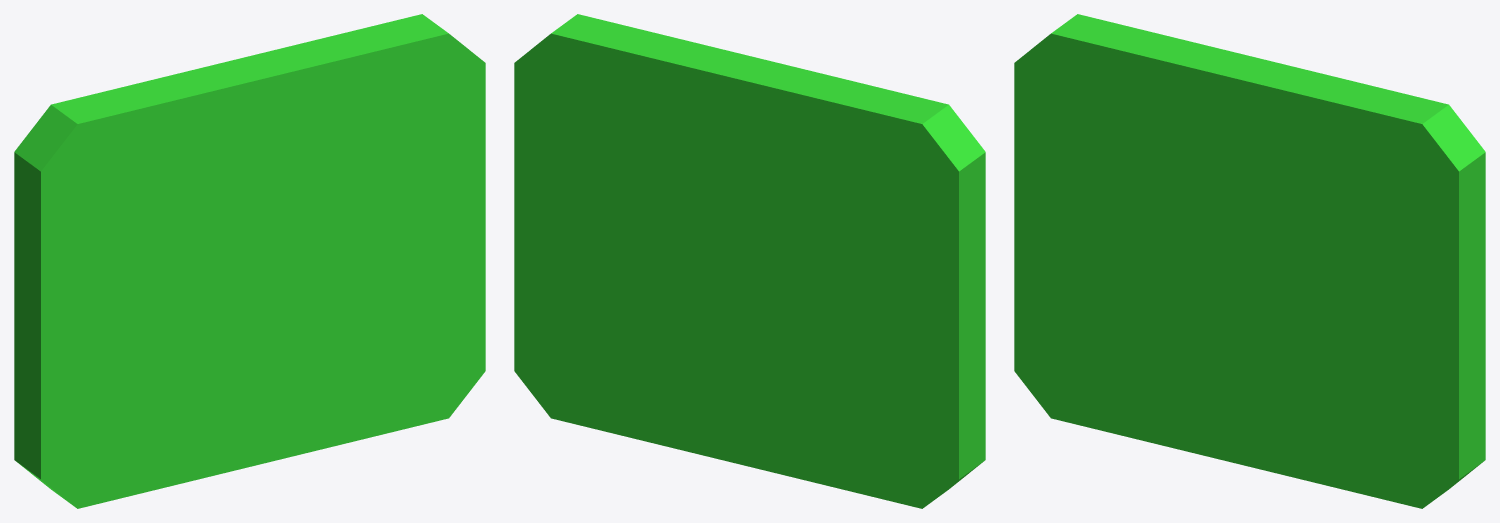
File: Column_BIg_Vent.fbx
3 renders of one model, left to right at view 1: azimuth 30°, elevation 25°; view 2: azimuth 150°, elevation 25°; view 3: azimuth 330°, elevation 25°, orthographic.
Visible parts, largest first — view 1: Big_Vent_lp; view 2: Big_Vent_lp; view 3: Big_Vent_lp.
Part boxes in pixels (box(x1,y1,x2,y2)): Big_Vent_lp: box(14, 14, 485, 508); Big_Vent_lp: box(514, 14, 985, 508); Big_Vent_lp: box(1014, 14, 1485, 508).
Size of the model in its own units: 3911 by 3233 by 407.
